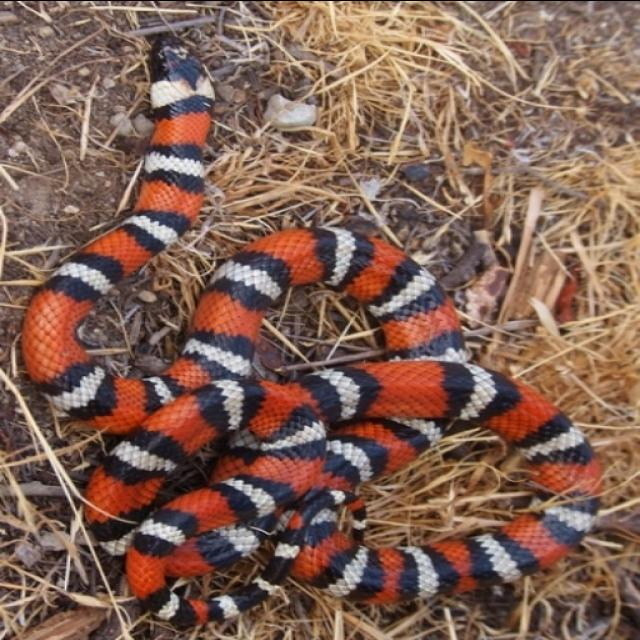snake: (0, 33, 640, 631)
